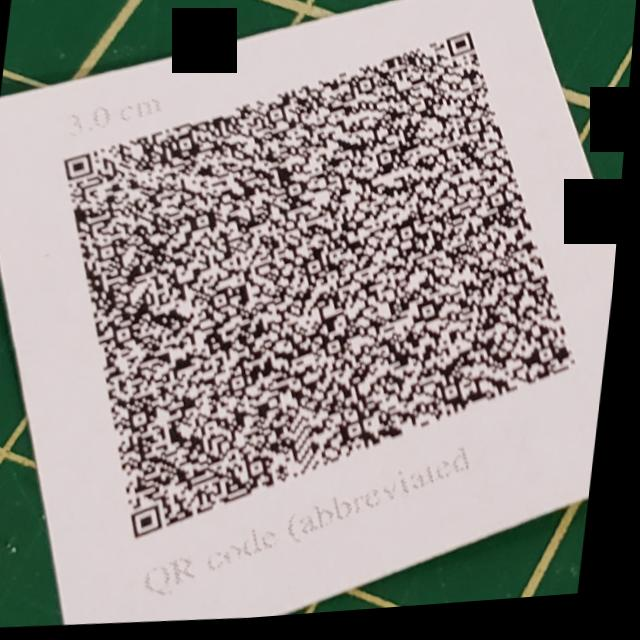QR_CODE: (10, 0, 631, 575)
